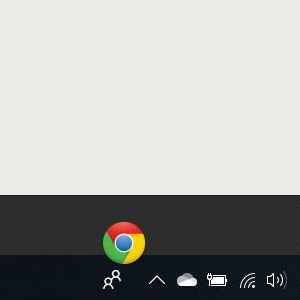chrome: (102, 222, 145, 265)
